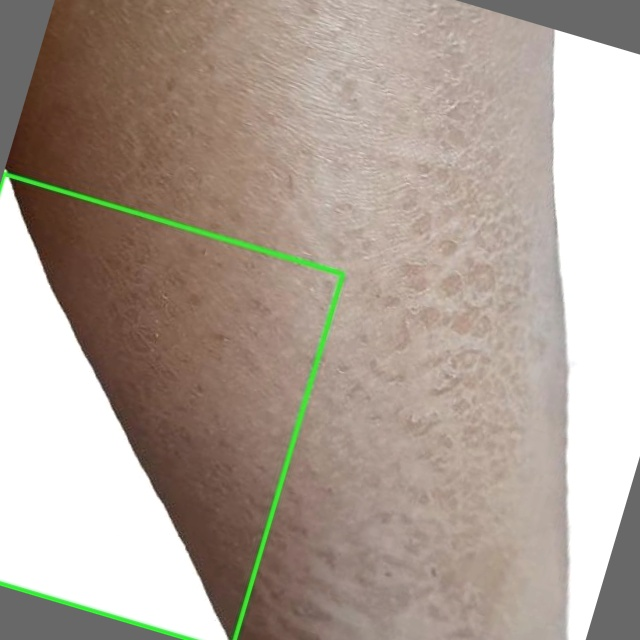Contact Dermatitis: (0, 173, 343, 639)
